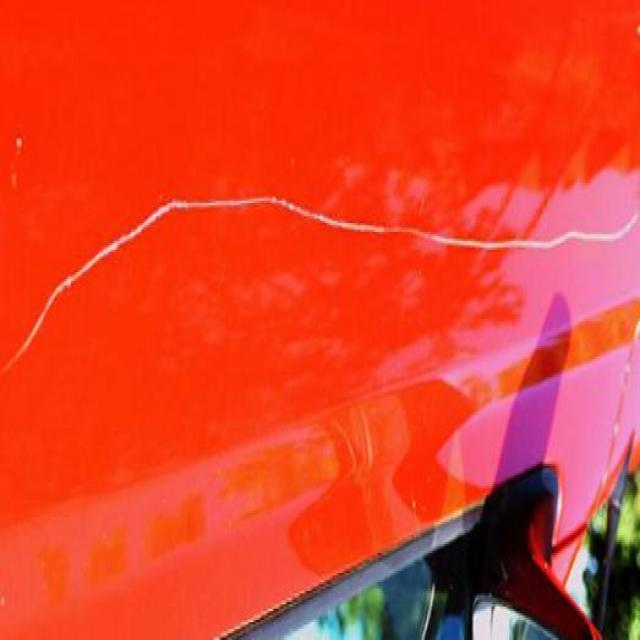scratch: (4, 191, 636, 387)
